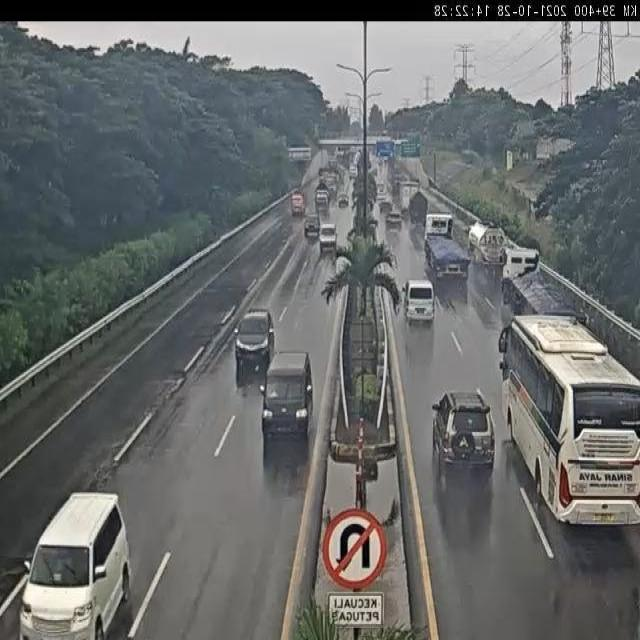Bus: (491, 306, 640, 534)
Car: (431, 389, 496, 474), (231, 308, 276, 368), (318, 224, 338, 252), (303, 212, 321, 238), (385, 212, 404, 233), (336, 192, 349, 208)
Truck: (500, 243, 588, 332), (423, 210, 472, 282), (466, 219, 516, 278), (290, 190, 306, 218)
Van: (16, 493, 133, 640), (257, 352, 315, 446), (401, 280, 436, 328)
